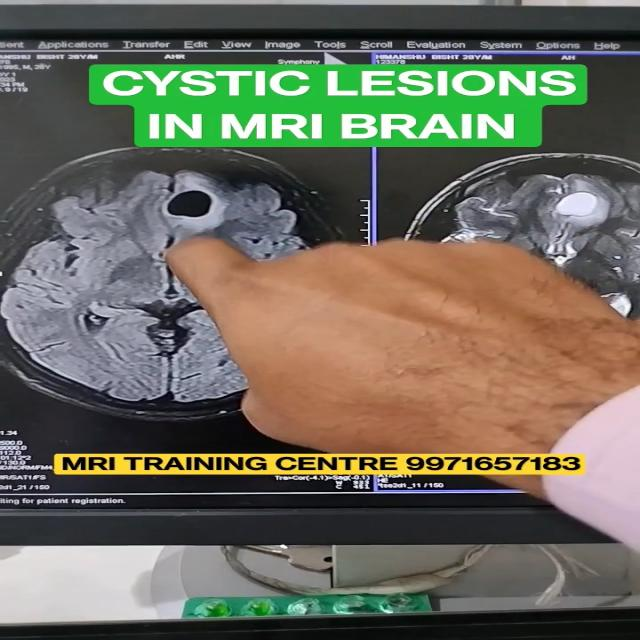tumor: (155, 179, 249, 236)
